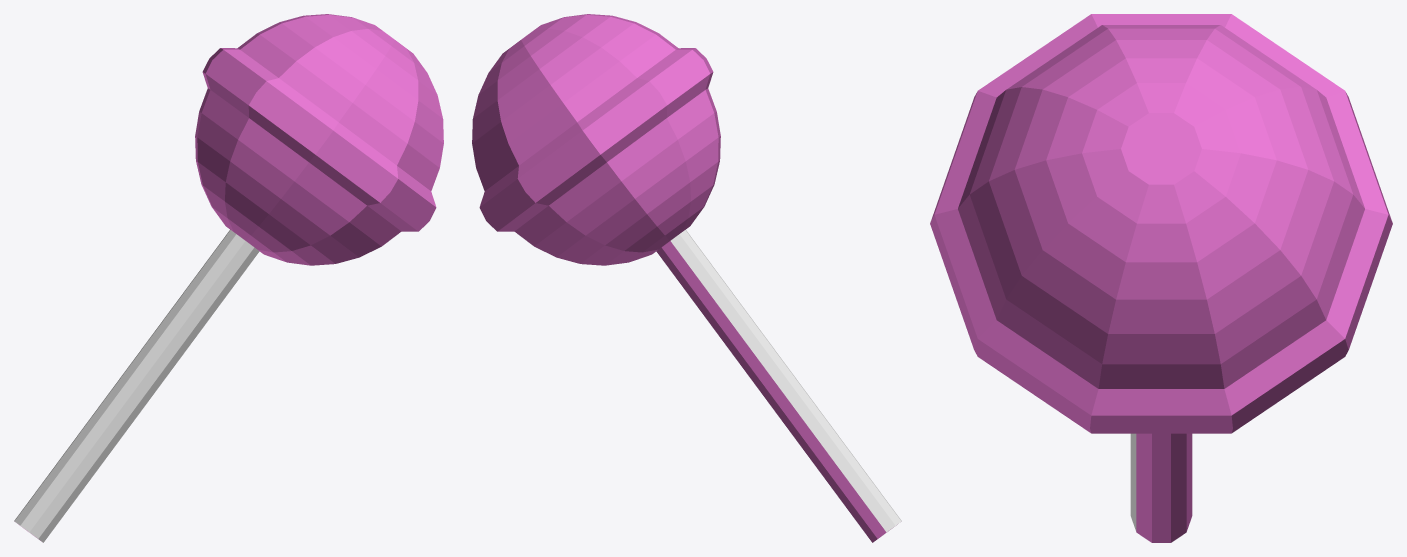
Rendered from candy.fbx.
3 views of the same model, side by side, from view 1: azimuth 30°, elevation 25°; view 2: azimuth 150°, elevation 25°; view 3: azimuth 270°, elevation 25° (orthographic). The views are drawn at different scales.
Visible parts, largest first — view 1: candy; view 2: candy; view 3: candy.
Boxes of the visible parts, box(x1,y1,x2,y2) form: candy: box(14, 14, 443, 542); candy: box(472, 14, 901, 542); candy: box(930, 14, 1392, 542).
Size of the model in its own units: 9.11 by 9.47 by 5.48.
